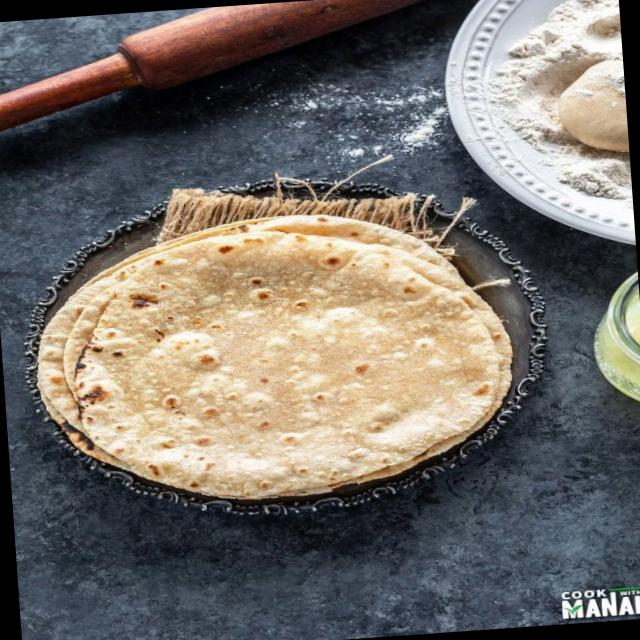roti: (33, 212, 512, 501)
